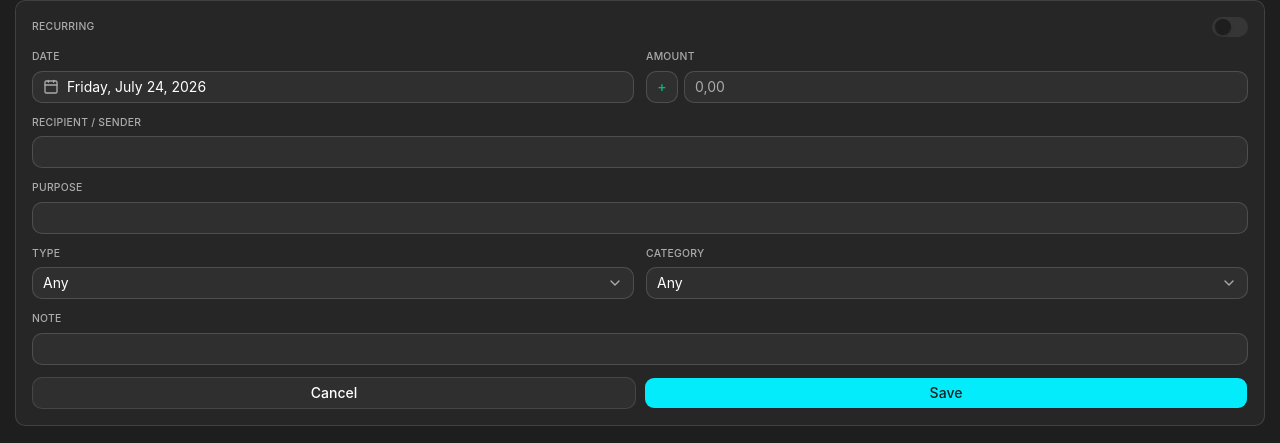
Test case: ManualTransactionForm — recurring › formats the amount to two decimals on blur
This screenshot has width=1280, height=443.
In the field labelled "Amount": (966, 87) [684,71,1248,103], type "50"
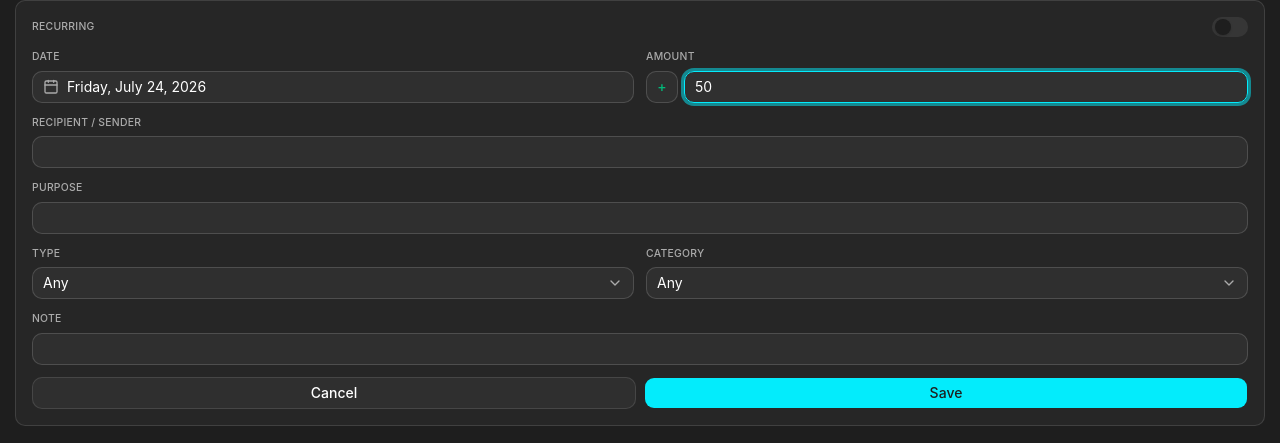
Press Tab
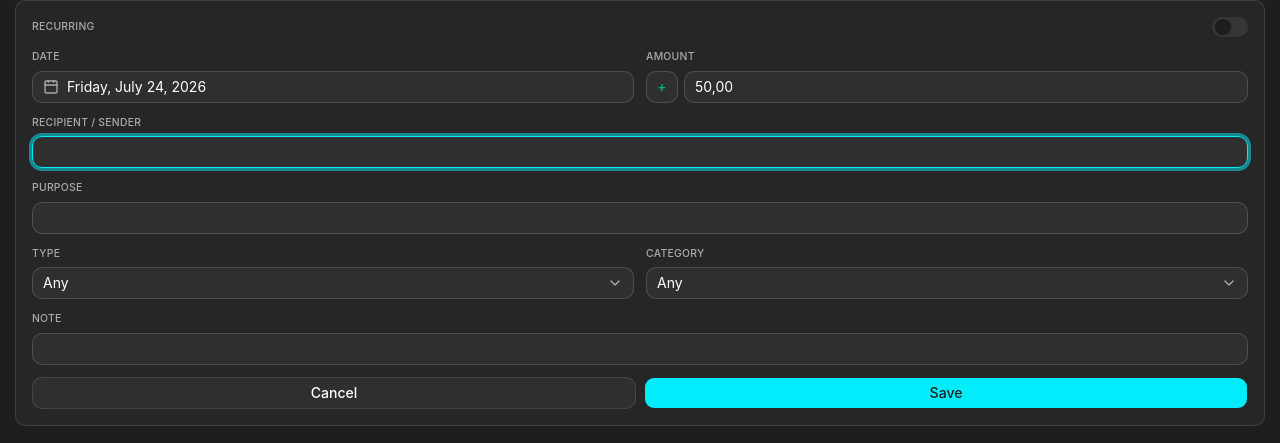
Check: the field labelled "Amount" holds "50,00", box [684,71,1248,103]
